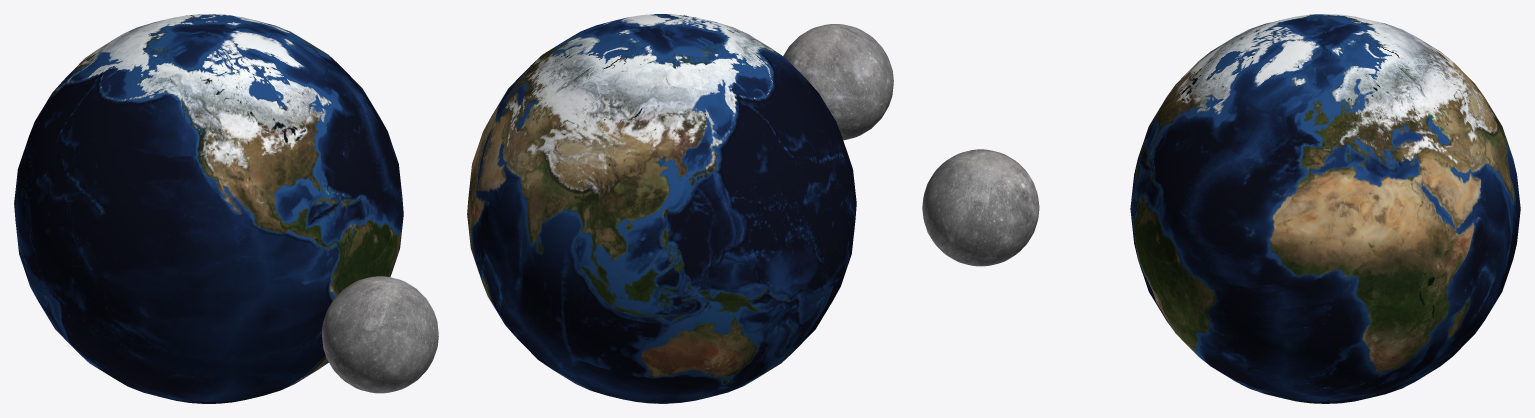
The model's file is Tierra.glb.
3 views of the same model, side by side, from view 1: azimuth 30°, elevation 25°; view 2: azimuth 150°, elevation 25°; view 3: azimuth 270°, elevation 25° (orthographic).
Parts seen in each view (by area): view 1: tierra.001, luna.001; view 2: tierra.001, luna.001; view 3: tierra.001, luna.001.
Boxes of the visible parts, x1,y1,x2,y2 form: tierra.001: (14, 14, 403, 403); luna.001: (321, 276, 438, 393); tierra.001: (467, 14, 856, 403); luna.001: (783, 24, 893, 140); tierra.001: (1130, 14, 1520, 403); luna.001: (922, 149, 1039, 266).
Bounding box in the file's own units: 1.62 × 1.62 × 2.48.
2 materials, 2 textured.
